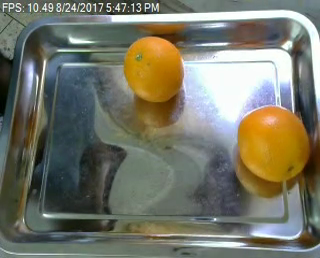Orange: (237, 104, 310, 182), (123, 35, 185, 104)
